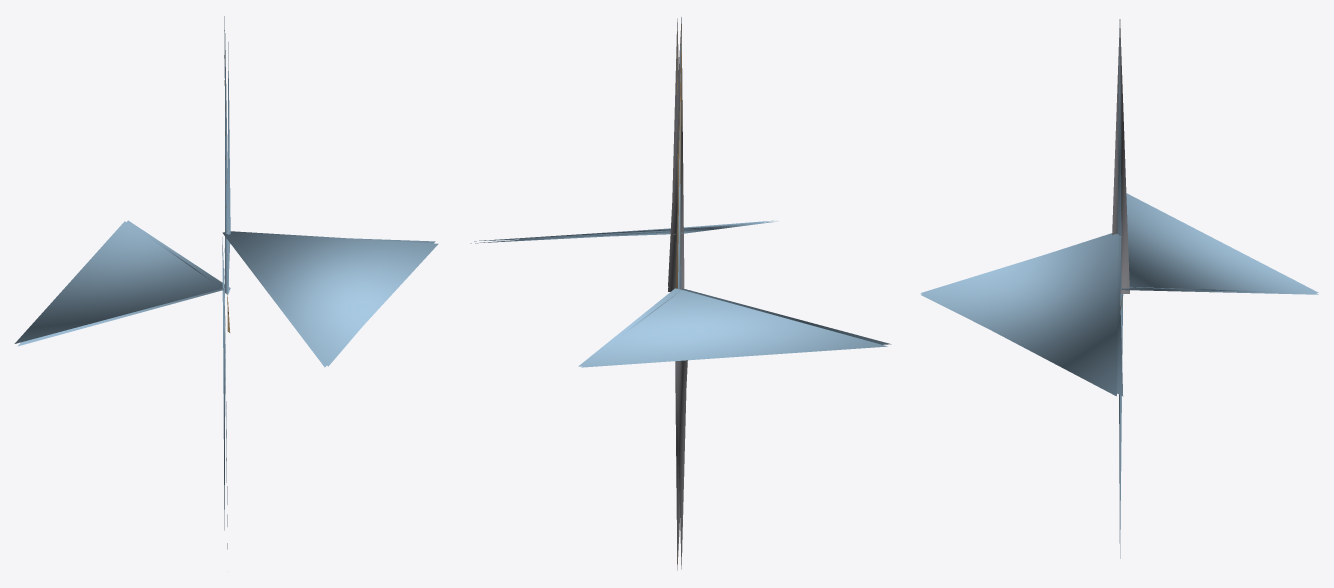
File: equip_weapon_mithril_longsword.glb
3 renders of one model, left to right at view 1: azimuth 30°, elevation 25°; view 2: azimuth 150°, elevation 25°; view 3: azimuth 270°, elevation 25°, orthographic.
Visible parts, largest first — view 1: equip_weapon_mithril_longsword; view 2: equip_weapon_mithril_longsword; view 3: equip_weapon_mithril_longsword.
Part boxes in pixels (<box>): equip_weapon_mithril_longsword: <box>14,16,438,549</box>; equip_weapon_mithril_longsword: <box>470,17,891,570</box>; equip_weapon_mithril_longsword: <box>920,19,1318,558</box>.
Size of the model in its own units: 1.8 by 2.28 by 1.48.
